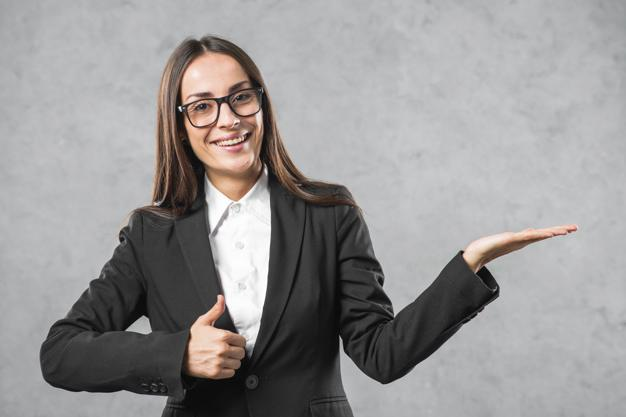thumbsup: (201, 294, 246, 379)
